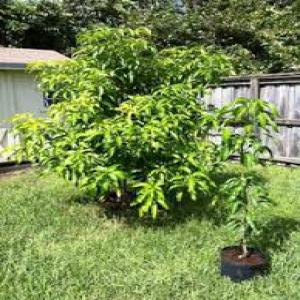Tree: (12, 25, 240, 214)
